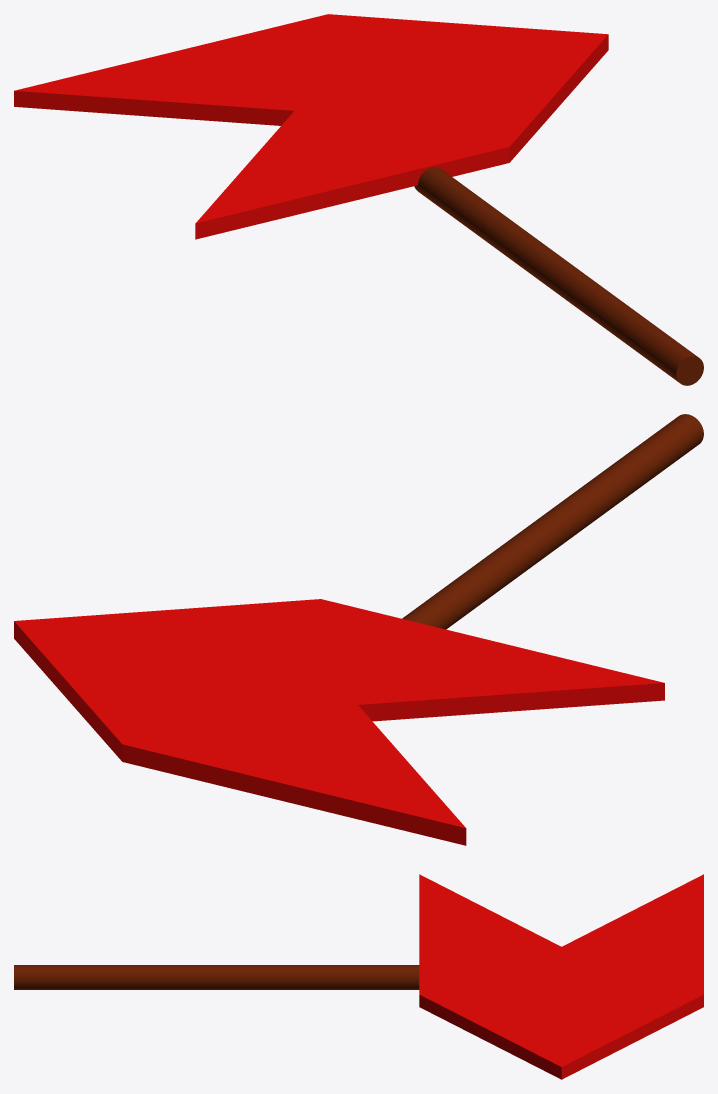
The model's file is sign.glb.
The picture shows the model from 3 angles, top to bottom: view 1: azimuth 30°, elevation 25°; view 2: azimuth 150°, elevation 25°; view 3: azimuth 270°, elevation 25°; orthographic projection. The views are drawn at different scales.
Visible parts, largest first — view 1: Plane, Cylinder; view 2: Plane, Cylinder; view 3: Plane, Cylinder.
Boxes of the visible parts, x1,y1,x2,y2 form: Plane: [14, 14, 608, 239]; Cylinder: [414, 167, 703, 385]; Plane: [14, 599, 664, 845]; Cylinder: [402, 414, 703, 629]; Plane: [419, 874, 703, 1079]; Cylinder: [14, 965, 419, 989].
Bounding box in the file's own units: 3.21 × 0.1858 × 4.85.
